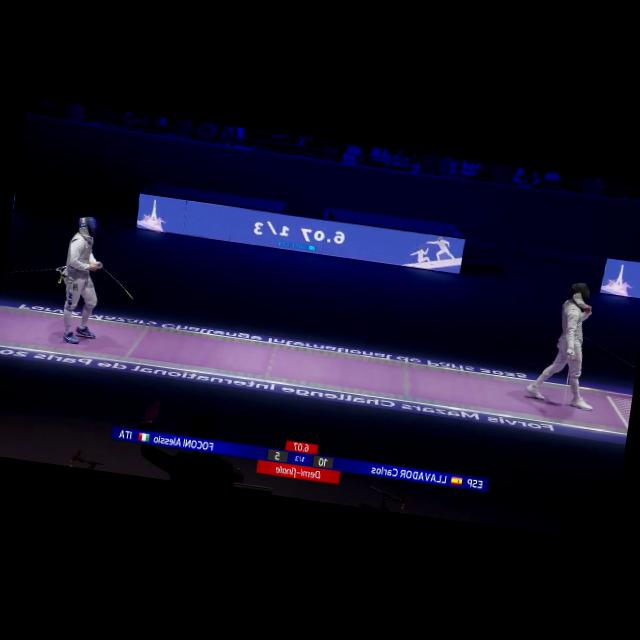blade: (88, 261, 138, 301), (556, 349, 574, 412)
